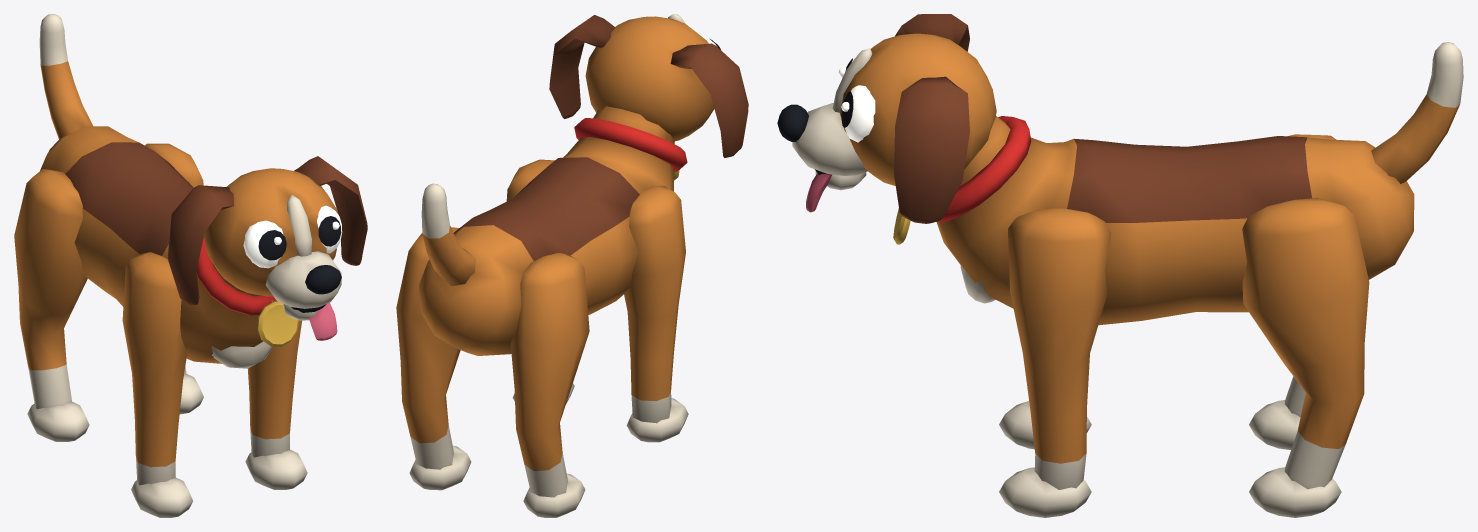
Rendered from dog.glb.
3 views of the same model, side by side, from view 1: azimuth 30°, elevation 25°; view 2: azimuth 150°, elevation 25°; view 3: azimuth 270°, elevation 25° (orthographic). The views are drawn at different scales.
Parts seen in each view (by area): view 1: Dog body fur, Dog leg 2 fur, Dog leg 0 fur, Dog body ears, Dog body cream, Dog leg 1 fur, Dog body pupil, Dog body collar, Dog leg 2 cream, Dog leg 0 cream, Dog leg 1 cream, Dog body eye white (+4 smaller); view 2: Dog body fur, Dog leg 2 fur, Dog leg 0 fur, Dog leg 3 fur, Dog body ears, Dog body collar, Dog leg 3 cream, Dog leg 2 cream, Dog leg 0 cream, Dog leg 1 fur; view 3: Dog body fur, Dog leg 3 fur, Dog leg 1 fur, Dog body ears, Dog body cream, Dog body collar, Dog leg 3 cream, Dog leg 1 cream, Dog leg 2 cream, Dog body eye white, Dog body pupil, Dog leg 0 cream.
Boxes of the visible parts, box(x1,y1,x2,y2) form: Dog body fur: box(39, 14, 338, 363); Dog leg 2 fur: box(14, 169, 87, 409); Dog leg 0 fur: box(122, 252, 187, 485); Dog body ears: box(168, 156, 367, 305); Dog body cream: box(211, 194, 341, 368); Dog leg 1 fur: box(248, 320, 301, 457); Dog body pupil: box(258, 216, 341, 312); Dog body collar: box(196, 234, 277, 315); Dog leg 2 cream: box(27, 401, 89, 441); Dog leg 0 cream: box(131, 477, 192, 517); Dog leg 1 cream: box(245, 449, 307, 489); Dog body eye white: box(243, 205, 342, 268); Dog body fur: box(418, 16, 714, 355); Dog leg 2 fur: box(510, 253, 589, 497); Dog leg 0 fur: box(624, 186, 685, 423); Dog leg 3 fur: box(396, 227, 460, 469); Dog body ears: box(549, 15, 748, 157); Dog body collar: box(574, 118, 687, 171); Dog leg 3 cream: box(409, 445, 471, 490); Dog leg 2 cream: box(523, 473, 585, 517); Dog leg 0 cream: box(626, 398, 688, 442); Dog leg 1 fur: box(506, 159, 554, 201); Dog body fur: box(839, 33, 1463, 325); Dog leg 3 fur: box(1242, 198, 1369, 489); Dog leg 1 fur: box(1008, 208, 1111, 489); Dog body ears: box(894, 14, 969, 223); Dog body cream: box(792, 48, 995, 303); Dog body collar: box(936, 116, 1031, 222); Dog leg 3 cream: box(1249, 467, 1341, 517); Dog leg 1 cream: box(999, 467, 1091, 517); Dog leg 2 cream: box(1249, 400, 1300, 449); Dog body eye white: box(838, 57, 875, 142); Dog body pupil: box(777, 58, 853, 174); Dog leg 0 cream: box(999, 401, 1091, 449).
Bounding box in the file's own units: 0.582 × 1.1 × 1.55.
